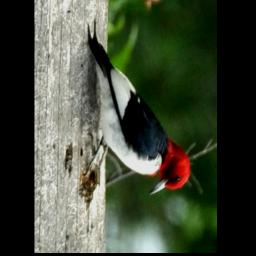Woodpecker: (88, 22, 191, 197)
